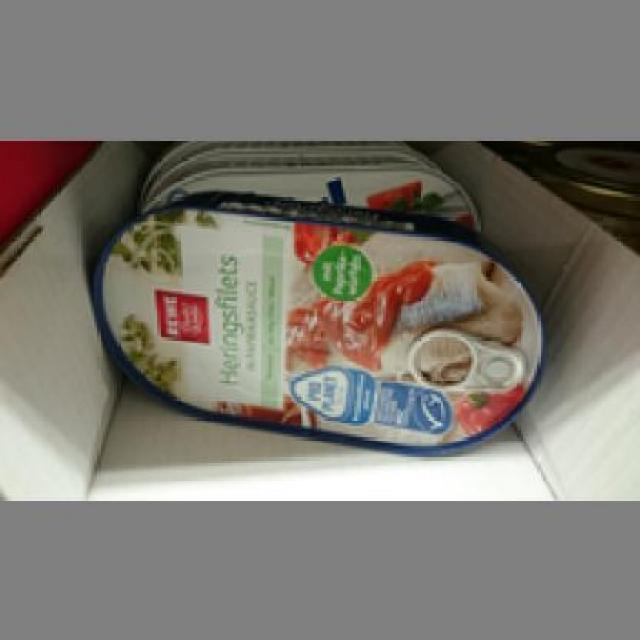Fish: (88, 186, 544, 454)
